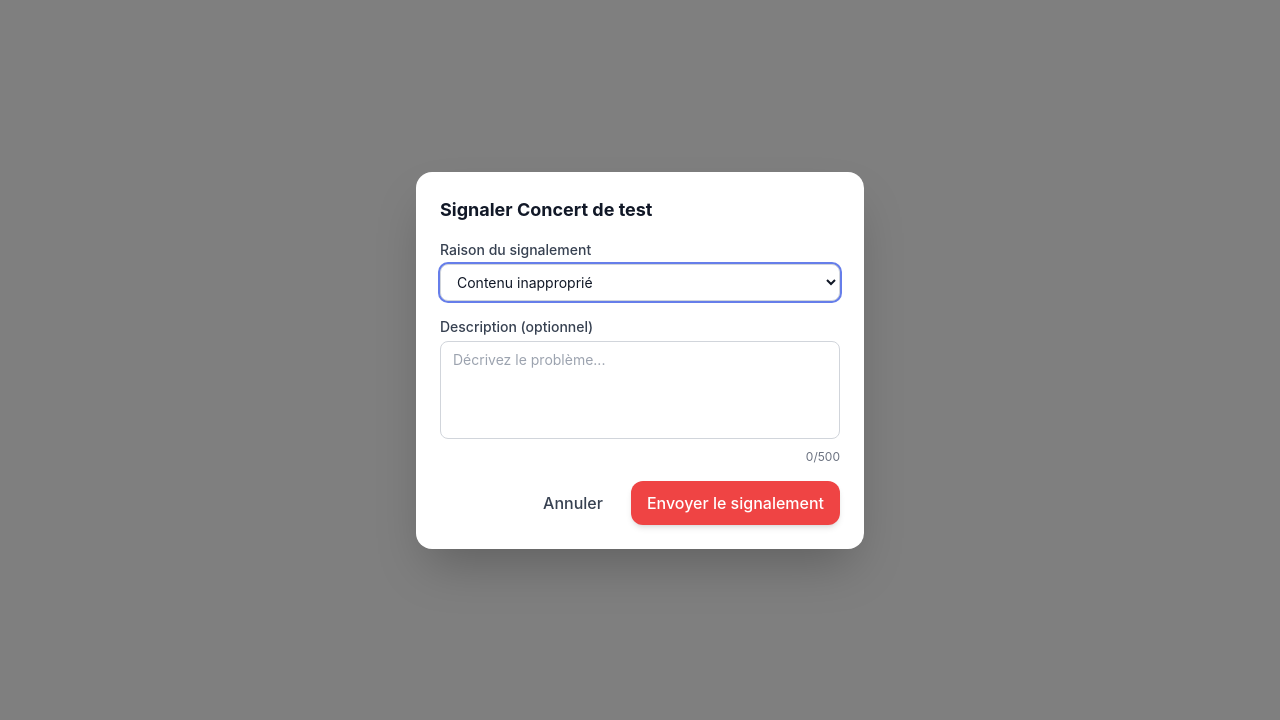
Test case: ReportModal › shows a generic error message when the submission fails
The image size is (1280, 720).
Click the button "Envoyer le signalement": (735, 502) left=631, top=480, right=840, bottom=524
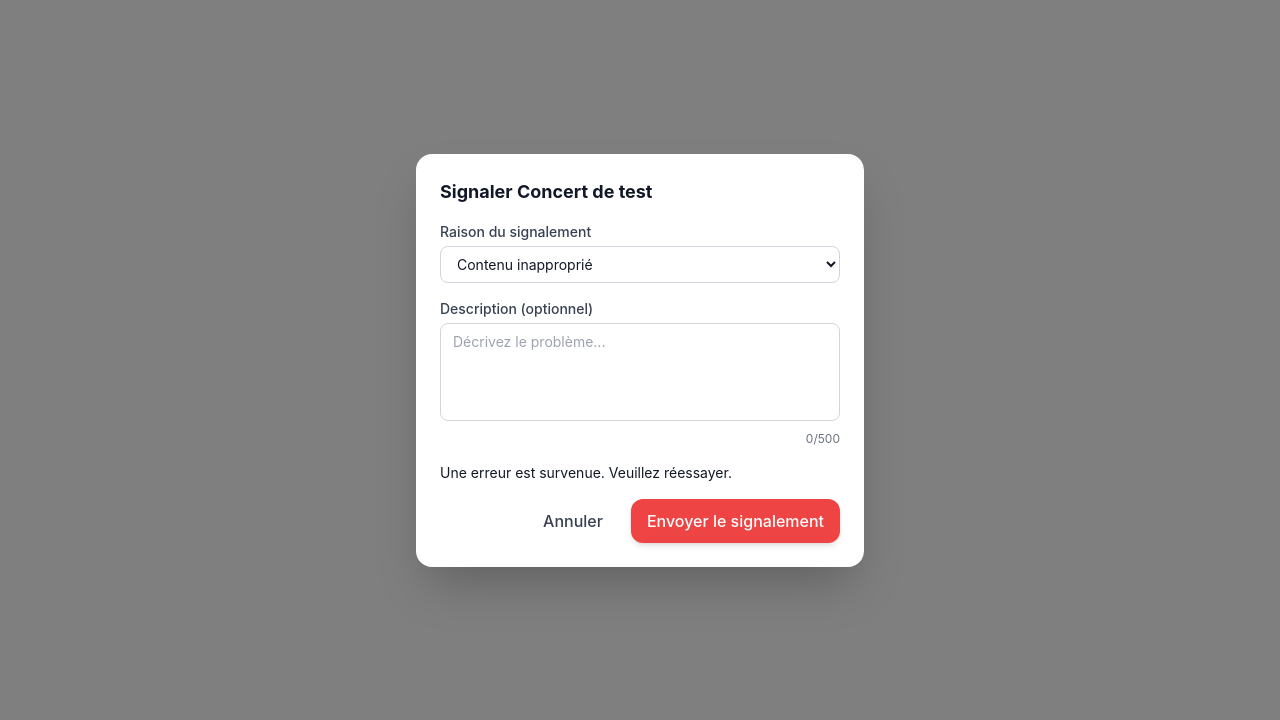
Expected: the message reads "Une erreur est survenue. Veuillez réessayer.", left=440, top=464, right=732, bottom=480
